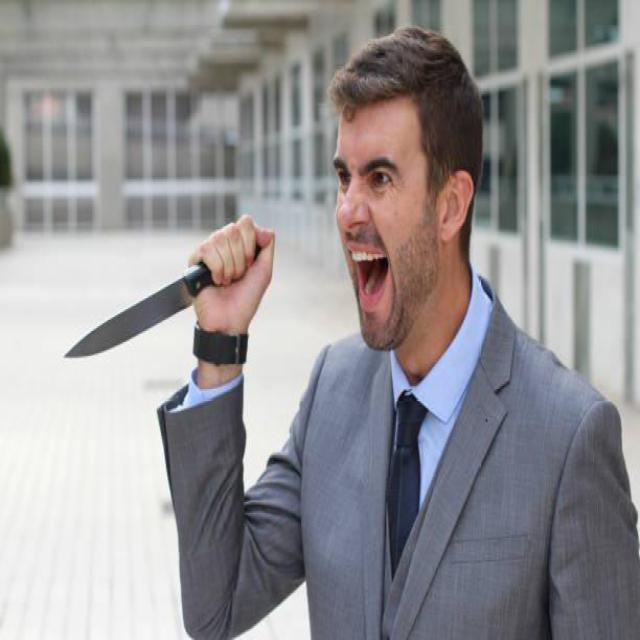faca: (42, 200, 280, 384)
